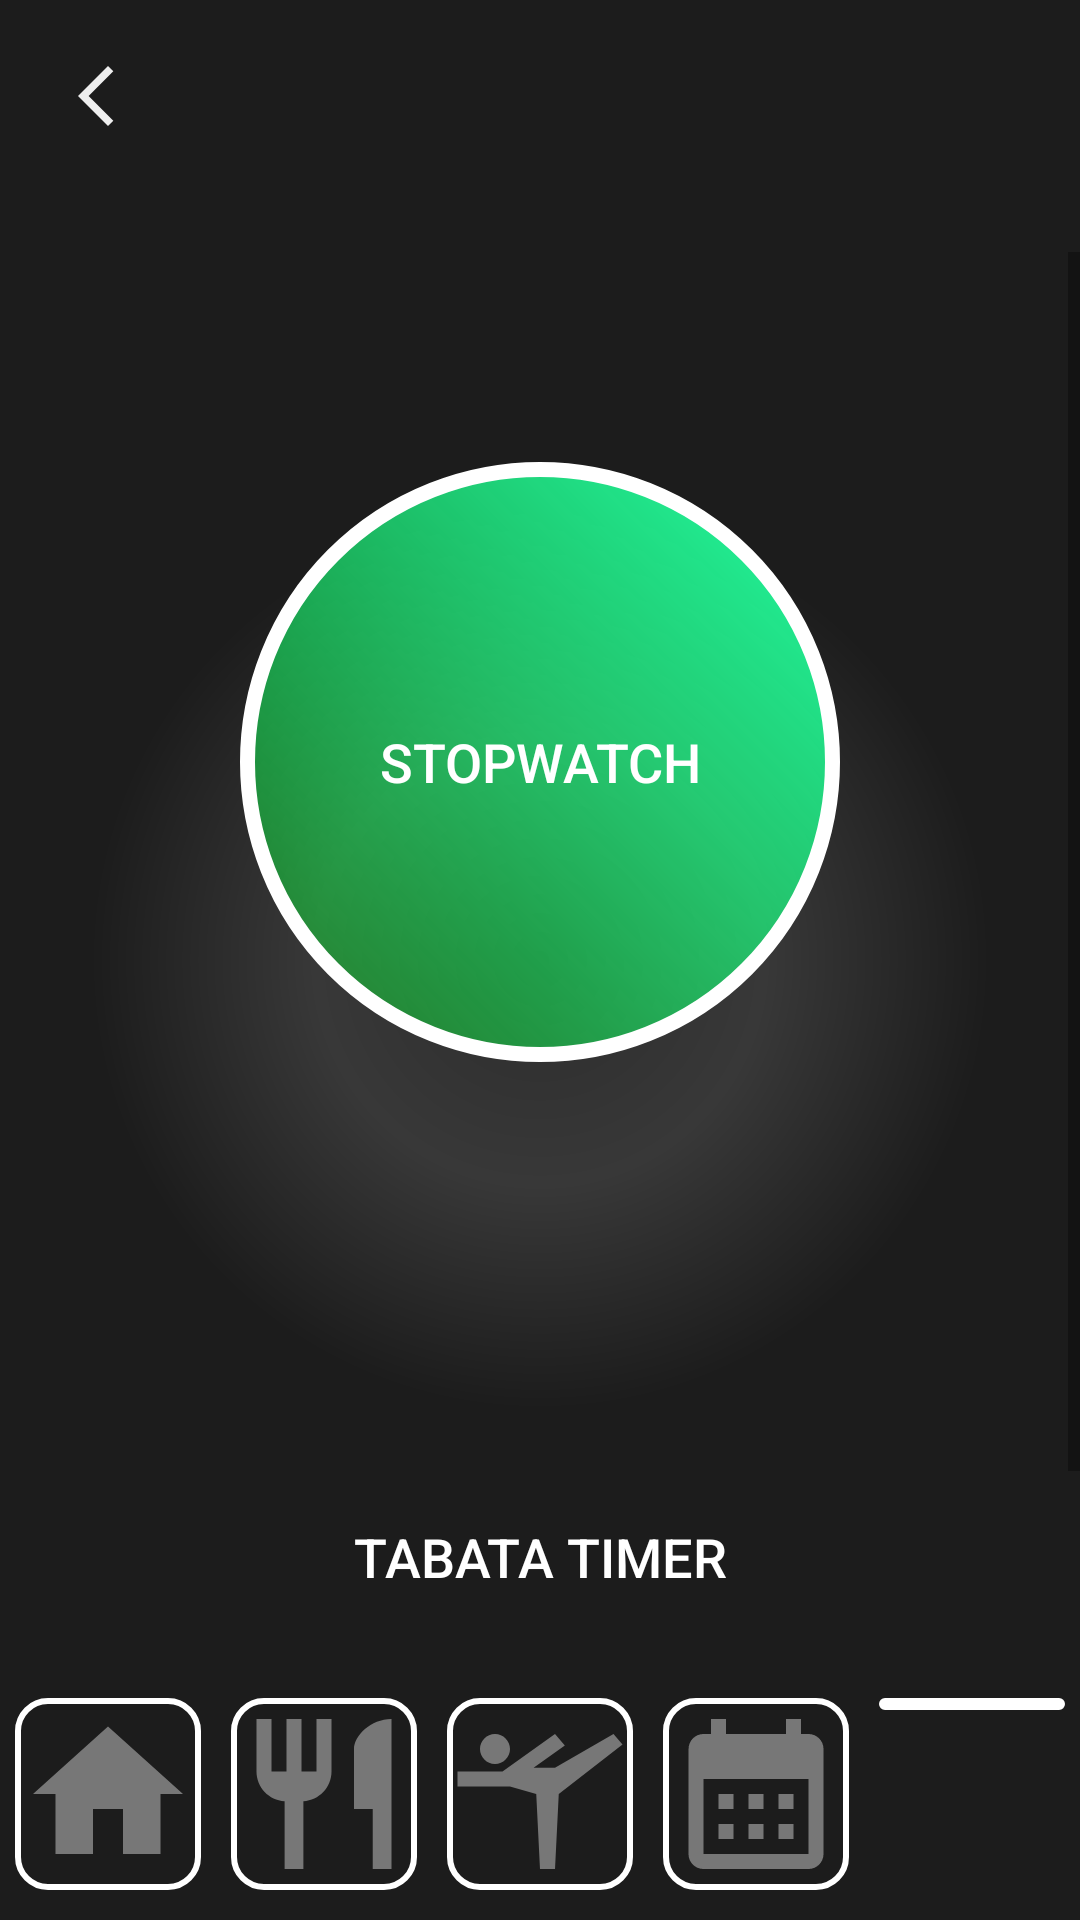

Named icons in this screenshot (1080*1920) and their bounding boxes, rect(x1, y1, x2, y2):
back button: rect(78, 66, 113, 126)
calendar: rect(663, 1698, 849, 1890)
exercise: rect(447, 1698, 633, 1890)
home: rect(15, 1698, 201, 1890)
